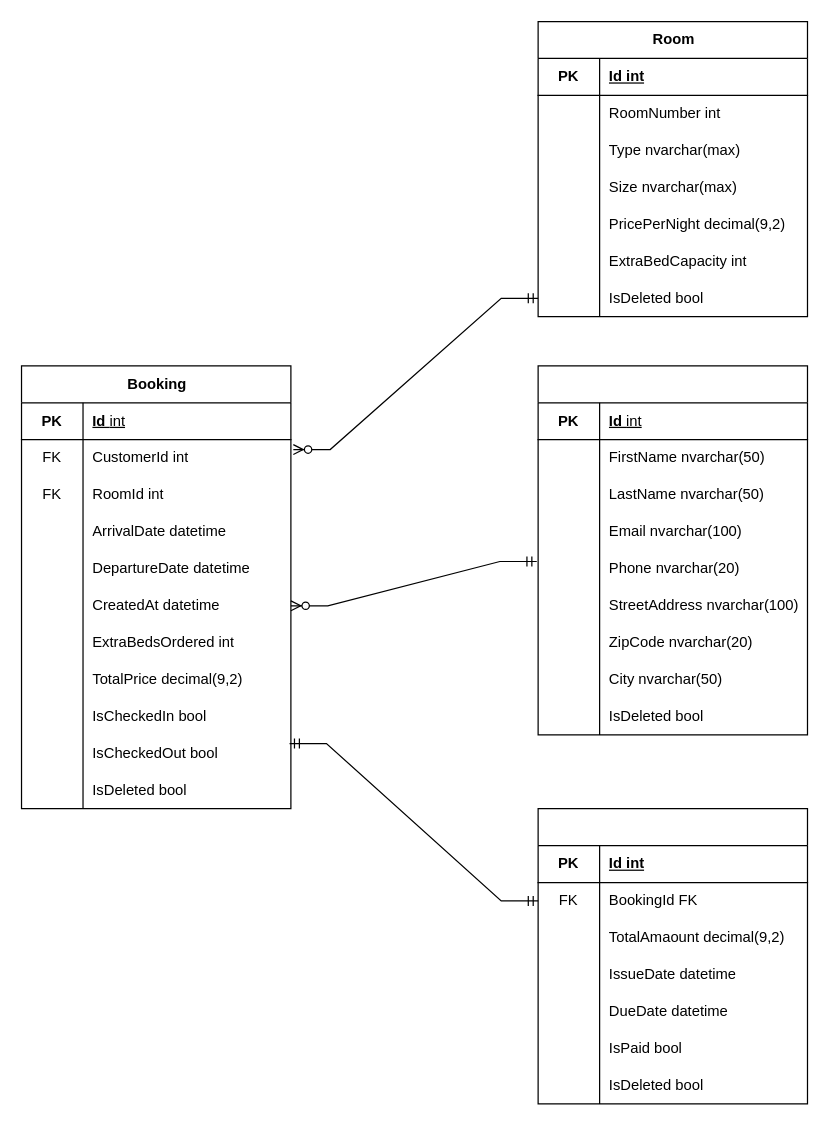
Image size: 829x1125. Some labels were removed from this diagram. Each missing label, with the box of its shape:
Customer: (537, 365, 807, 735)
Invoice: (537, 807, 807, 1104)
